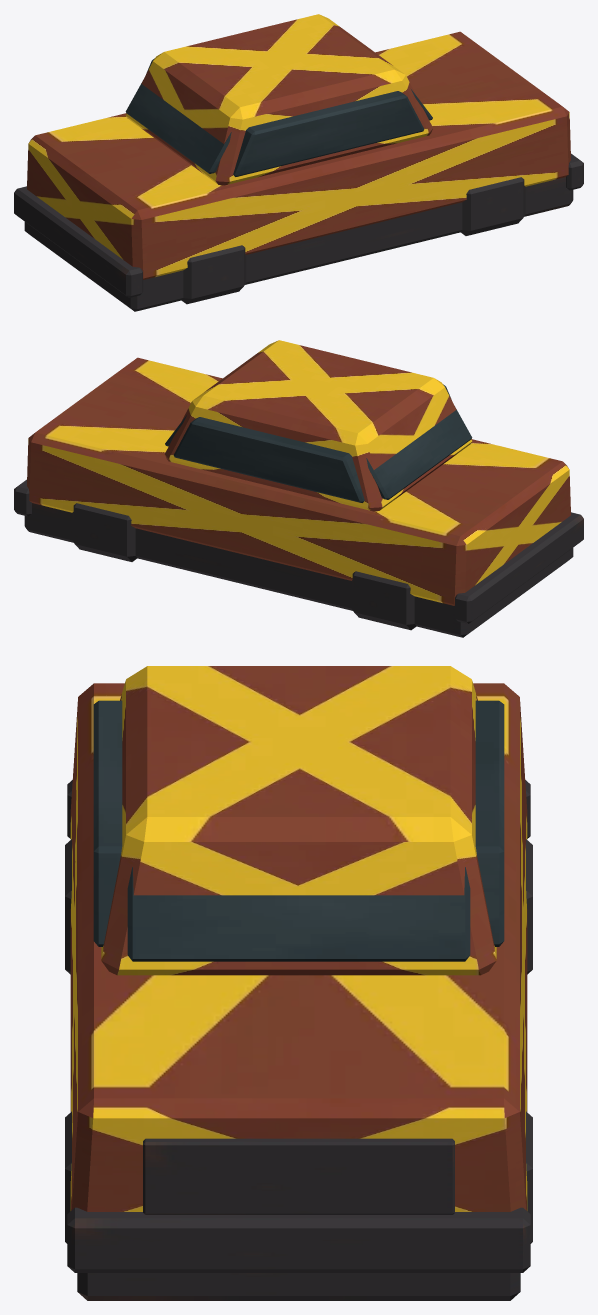
The model's file is car-weak-sedan.glb.
The picture shows the model from 3 angles, top to bottom: view 1: azimuth 30°, elevation 25°; view 2: azimuth 150°, elevation 25°; view 3: azimuth 270°, elevation 25°; orthographic projection. The views are drawn at different scales.
Parts seen in each view (by area): view 1: car_weak_sedan; view 2: car_weak_sedan; view 3: car_weak_sedan.
Part boxes in pixels (<box>): car_weak_sedan: <box>14,14,583,311</box>; car_weak_sedan: <box>14,340,583,637</box>; car_weak_sedan: <box>65,666,532,1300</box>.
Bounding box in the file's own units: 4.2 × 1.48 × 1.86.
1 material, 1 textured.
